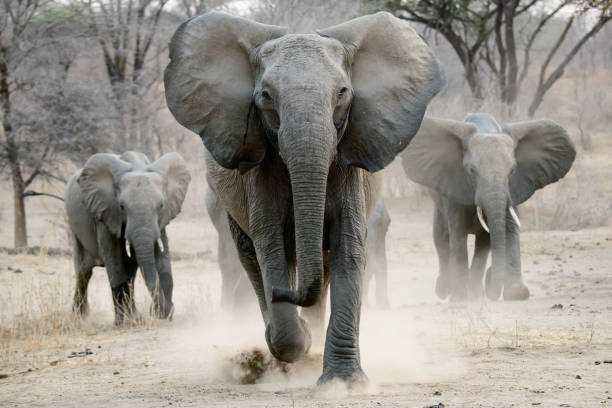africanelephant: (237, 33, 372, 256)
